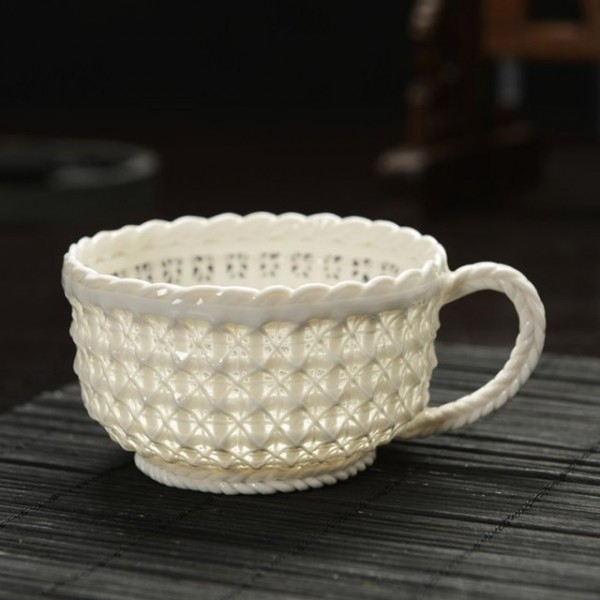cup: (59, 201, 549, 506)
